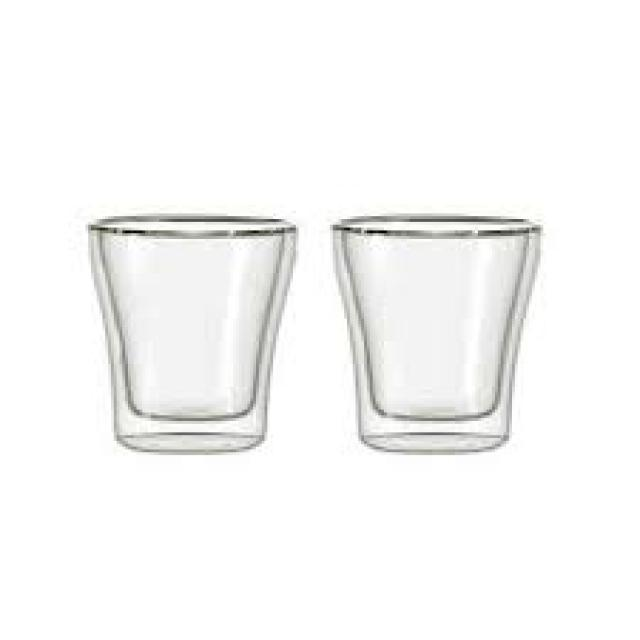Glass: (319, 176, 560, 482), (62, 179, 305, 467)
